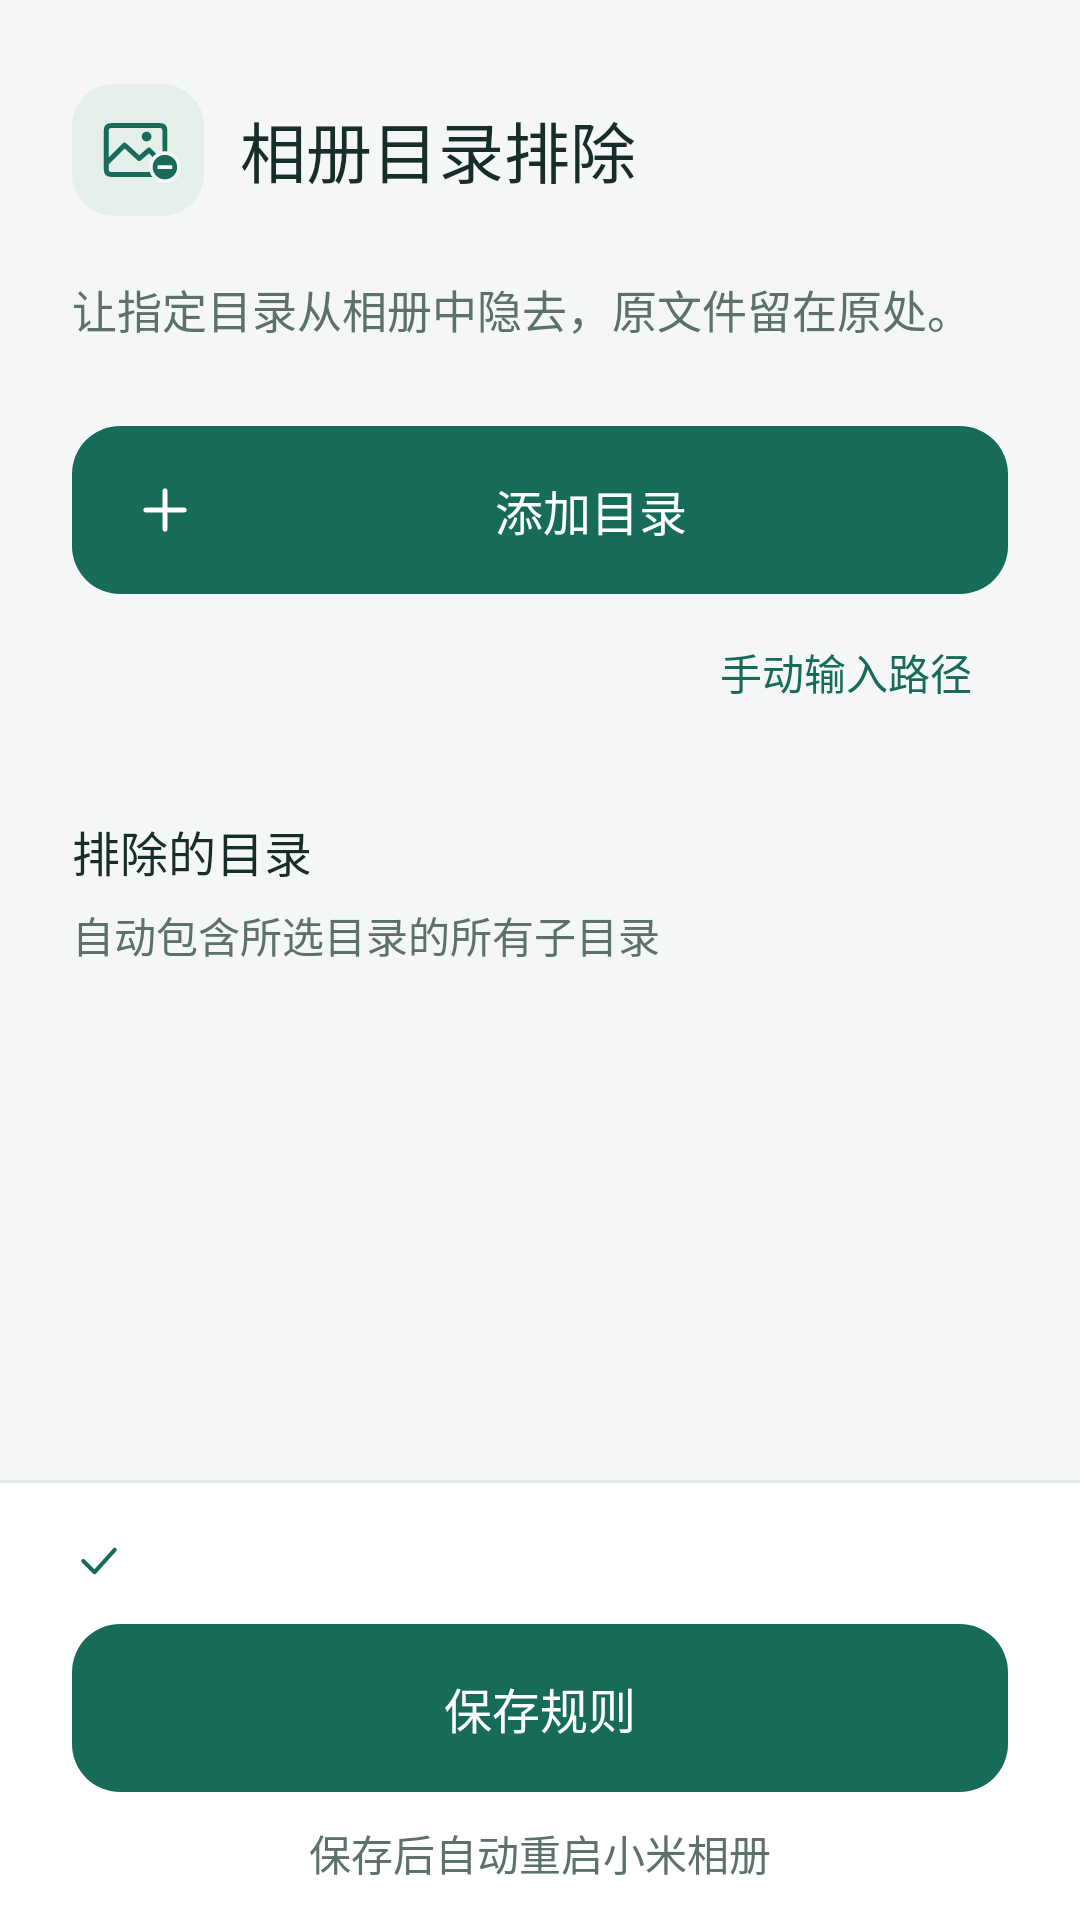

Icons on this 1080x1920 Android screen, each with its box as [x1, y1, x2, y2]:
check: [81, 1547, 117, 1575]
